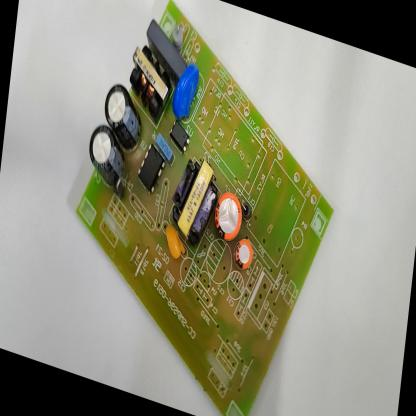Cap1: (211, 187, 245, 245)
Cap2: (232, 234, 255, 272)
Cap3: (98, 75, 148, 140)
Cap4: (85, 121, 131, 189)
MOSFET: (134, 136, 168, 200)
Mov: (169, 59, 202, 128)
Resistor: (168, 16, 187, 53)
Transformer: (170, 150, 222, 245), (126, 38, 178, 118)
